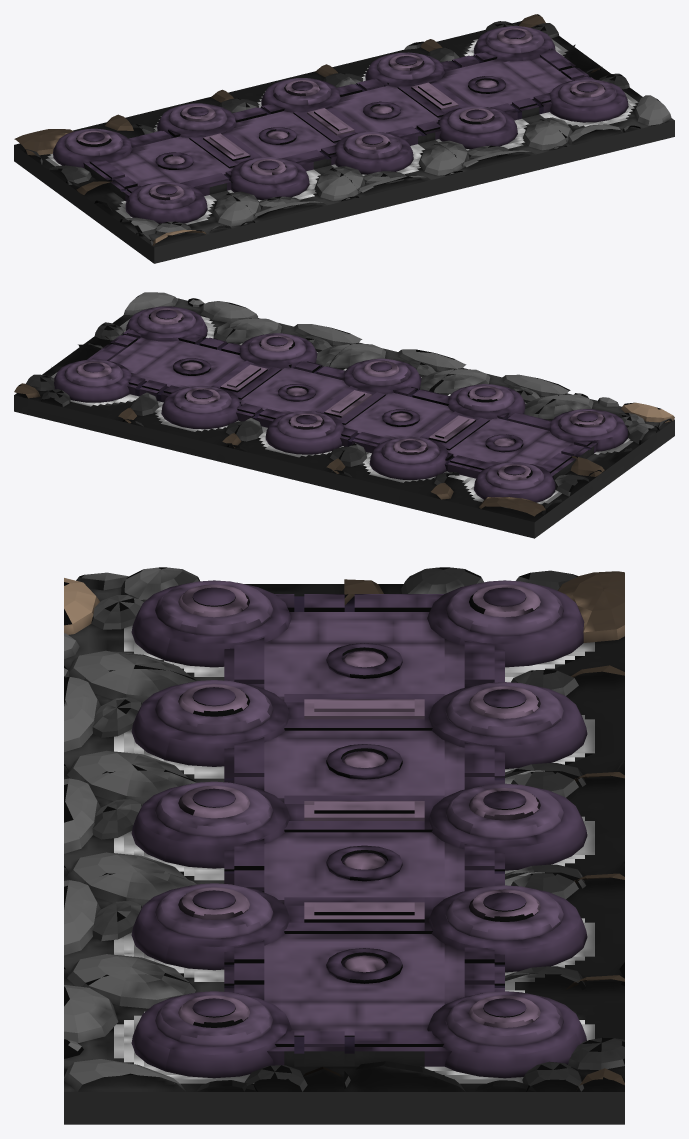
Rendered from tyrbld-purple-2x5.glb.
The picture shows the model from 3 angles, top to bottom: view 1: azimuth 30°, elevation 25°; view 2: azimuth 150°, elevation 25°; view 3: azimuth 270°, elevation 25°; orthographic projection. The views are drawn at different scales.
Parts seen in each view (by area): view 1: shapesz-tyrbld-purple-2x5-parts, shapesz-tyrbld-purple-2x5-deck; view 2: shapesz-tyrbld-purple-2x5-parts, shapesz-tyrbld-purple-2x5-deck; view 3: shapesz-tyrbld-purple-2x5-parts, shapesz-tyrbld-purple-2x5-deck.
Part boxes in pixels (<box>): shapesz-tyrbld-purple-2x5-parts: <box>14,14,674,263</box>; shapesz-tyrbld-purple-2x5-deck: <box>45,38,638,224</box>; shapesz-tyrbld-purple-2x5-parts: <box>14,292,674,538</box>; shapesz-tyrbld-purple-2x5-deck: <box>51,316,633,508</box>; shapesz-tyrbld-purple-2x5-parts: <box>64,567,624,1124</box>; shapesz-tyrbld-purple-2x5-deck: <box>114,594,594,1083</box>.
Size of the model in its own units: 10 by 0.6288 by 4.67.
8 materials, 8 textured.
